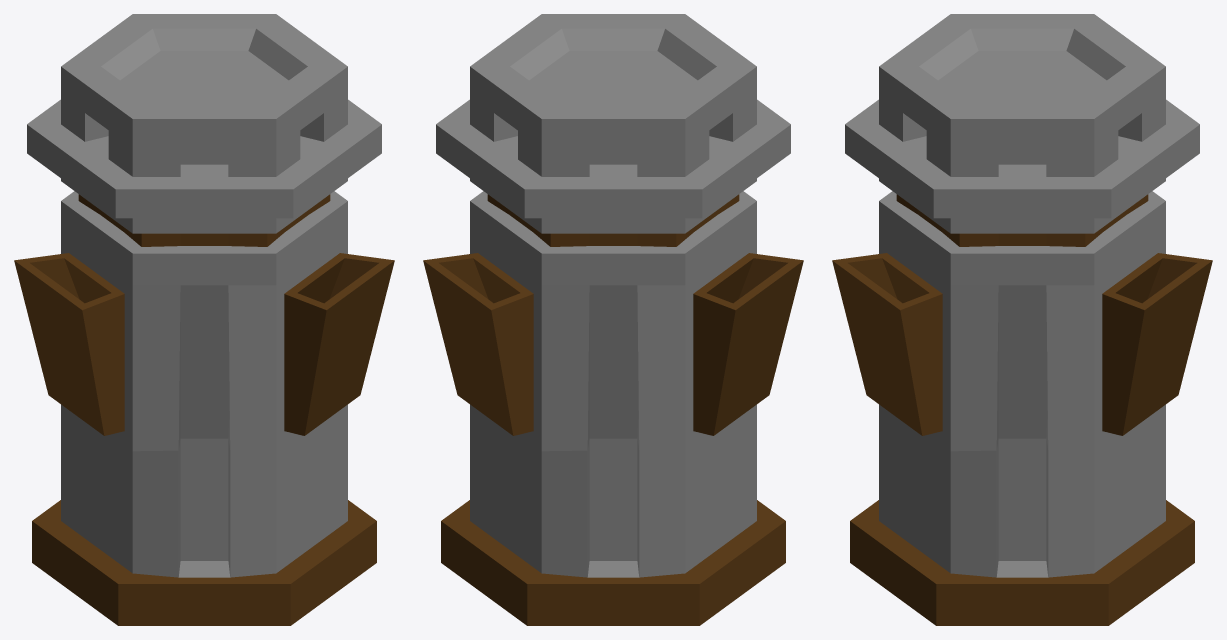
File: Trash Can 3.fbx
3 renders of one model, left to right at view 1: azimuth 30°, elevation 25°; view 2: azimuth 150°, elevation 25°; view 3: azimuth 270°, elevation 25°, orthographic.
Parts seen in each view (by area): view 1: Trash Can 3; view 2: Trash Can 3; view 3: Trash Can 3.
Boxes of the visible parts, left/top/right/bottom form: Trash Can 3: left=14, top=14, right=394, bottom=625; Trash Can 3: left=423, top=14, right=803, bottom=625; Trash Can 3: left=832, top=14, right=1212, bottom=625.
Bounding box in the file's own units: 0.7391 × 0.8419 × 1.21.
